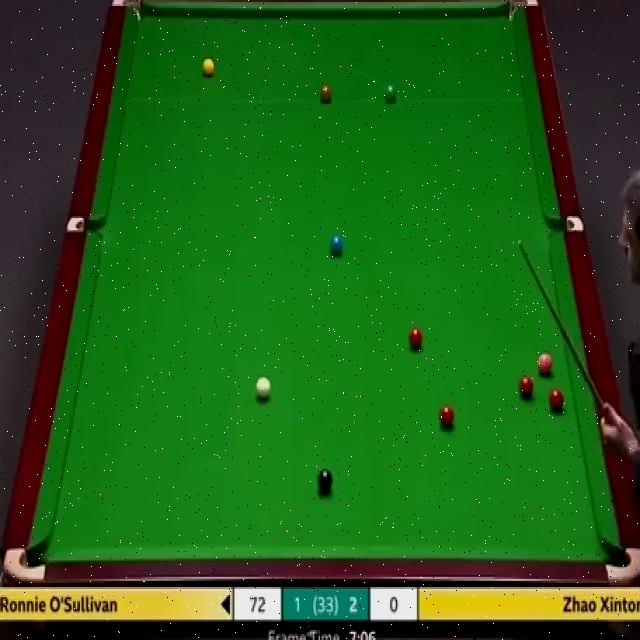black-ball: (317, 466, 334, 492)
blue-ball: (330, 232, 344, 258)
brown-ball: (319, 84, 334, 103)
green-ball: (383, 82, 398, 105)
pink-ball: (536, 351, 554, 376)
red-ball: (408, 327, 426, 354), (438, 407, 456, 432), (518, 376, 534, 398), (549, 388, 563, 412)
white-ball: (256, 376, 272, 398)
yellow-ball: (203, 60, 215, 78)
